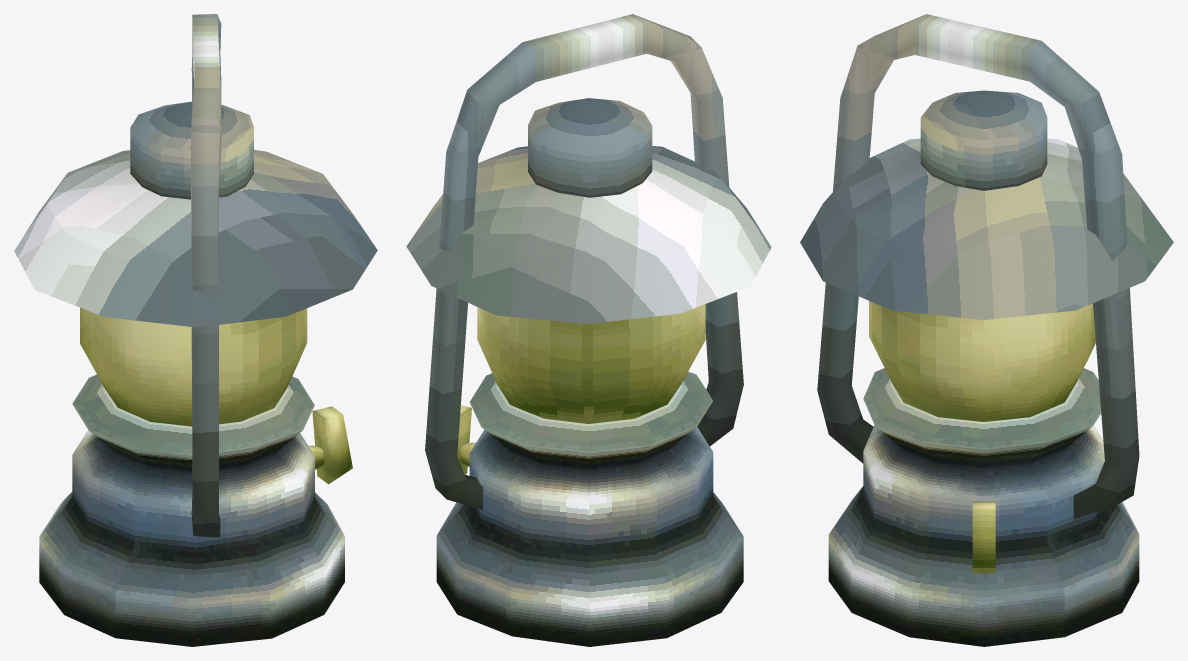
Rendered from a_lump_1.glb.
The picture shows the model from 3 angles, left to right: view 1: azimuth 30°, elevation 25°; view 2: azimuth 150°, elevation 25°; view 3: azimuth 270°, elevation 25°; orthographic projection. The views are drawn at different scales.
Visible parts, largest first — view 1: a_lump_1; view 2: a_lump_1; view 3: a_lump_1.
Boxes of the visible parts, bbox=[...] form: a_lump_1: bbox=[14, 14, 377, 646]; a_lump_1: bbox=[406, 14, 771, 646]; a_lump_1: bbox=[800, 14, 1173, 646].
Bounding box in the file's own units: 65 × 106 × 65.
Materials: 3 (3 with a texture image).
